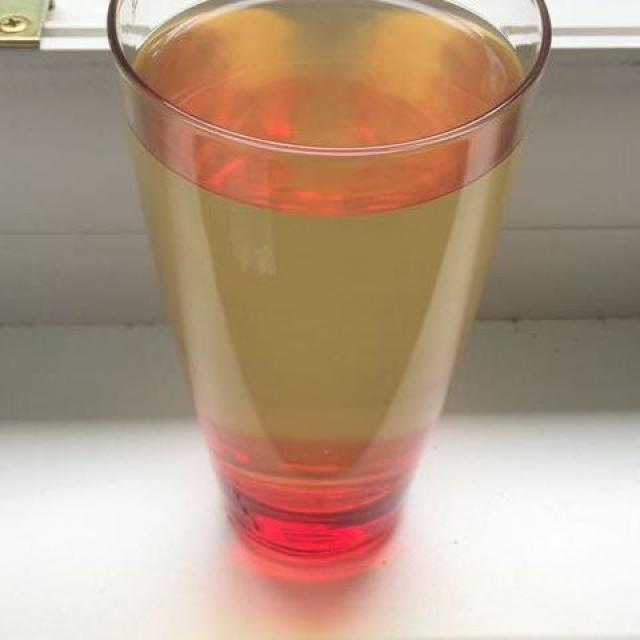syrup-diluted-ready-to-drink: (122, 11, 525, 566)
